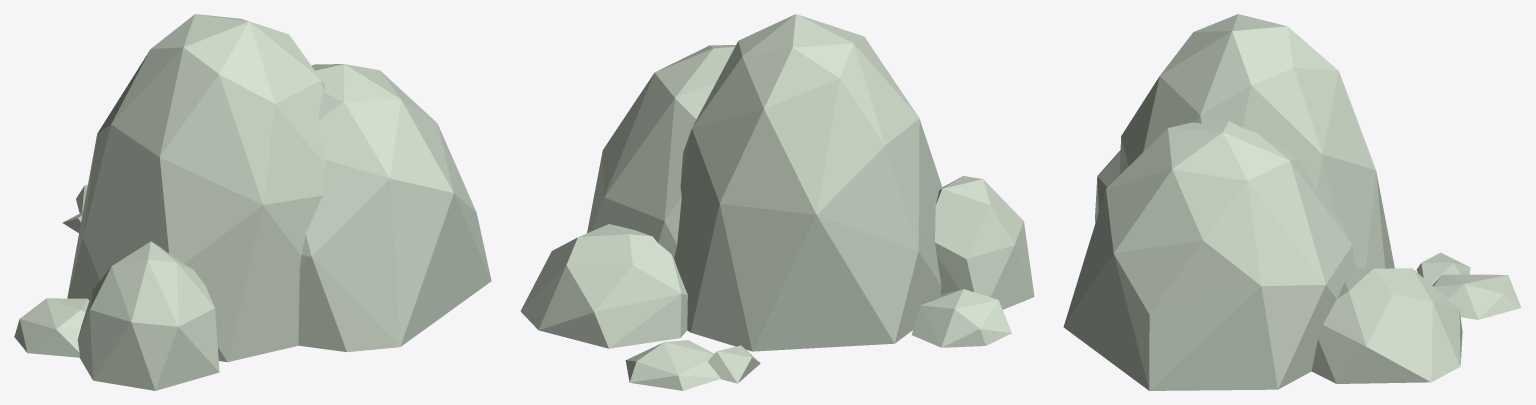
File: SM_EN_Rocks_Large_Lvl1.fbx
3 renders of one model, left to right at view 1: azimuth 30°, elevation 25°; view 2: azimuth 150°, elevation 25°; view 3: azimuth 270°, elevation 25°, orthographic. The views are drawn at different scales.
Parts seen in each view (by area): view 1: Large Rocks_Lvl1; view 2: Large Rocks_Lvl1; view 3: Large Rocks_Lvl1.
Boxes of the visible parts, bbox=[...] form: Large Rocks_Lvl1: bbox=[14, 14, 491, 390]; Large Rocks_Lvl1: bbox=[520, 14, 1034, 390]; Large Rocks_Lvl1: bbox=[1063, 14, 1521, 390].
Bounding box in the file's own units: 508 × 496 × 319.
